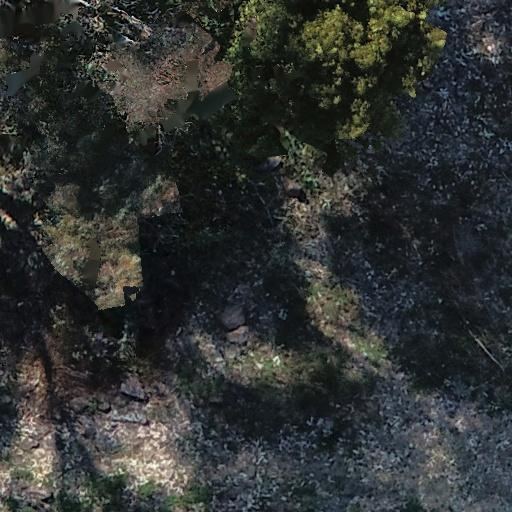stone: (281, 175, 307, 202), (75, 415, 103, 439), (220, 338, 248, 362), (122, 375, 148, 399), (106, 412, 149, 426), (220, 307, 246, 327), (226, 326, 250, 345), (160, 184, 180, 206), (260, 155, 284, 171), (122, 285, 140, 304), (22, 378, 42, 394), (133, 296, 154, 310), (208, 392, 227, 406), (148, 491, 167, 505), (21, 437, 41, 450), (470, 19, 488, 33), (68, 399, 87, 412), (40, 492, 56, 504), (1, 396, 14, 407), (98, 401, 111, 411), (246, 465, 256, 478), (176, 326, 183, 337)
